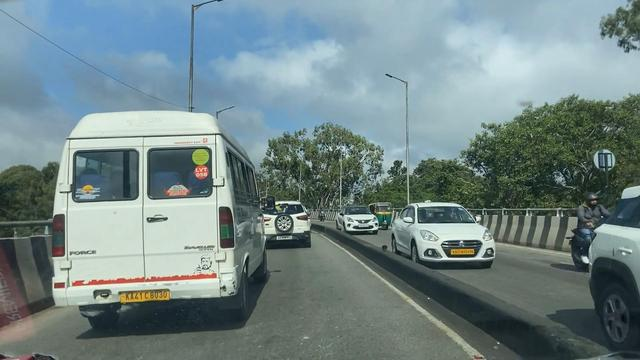HMV: (48, 115, 262, 310)
LMV: (261, 200, 310, 249)
